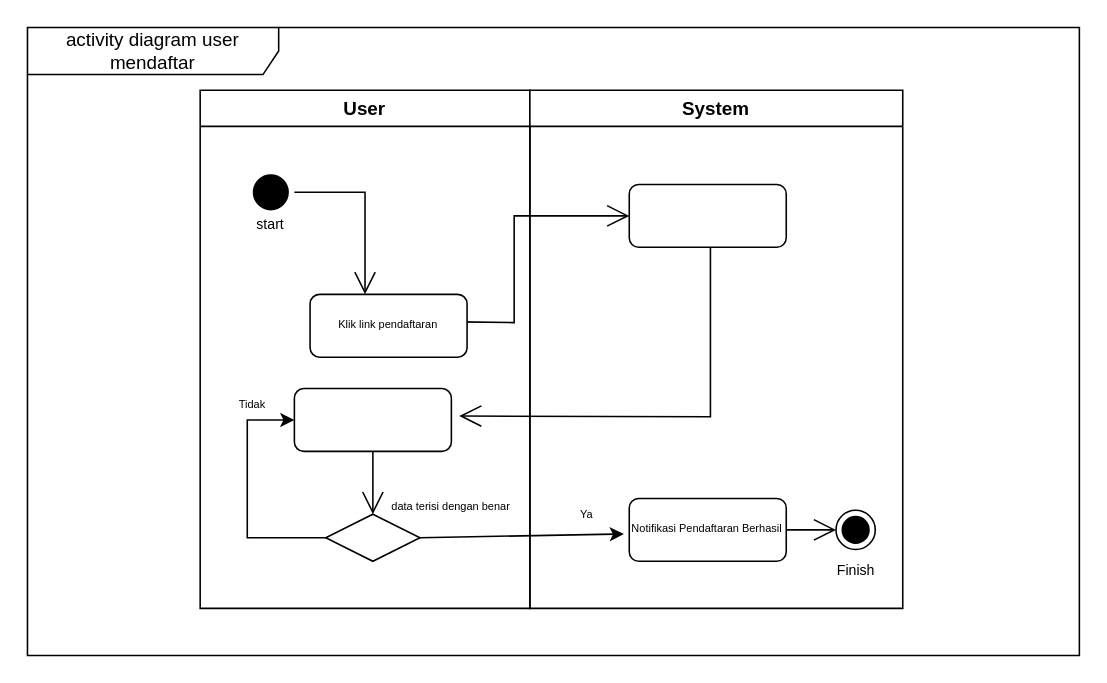
The diagram is 1107 pixels wide and 683 high, and some of its shapes have lost their labels. Here are the shapes that lost their labels. From the top down, the centre of each, then its label:
At (x=707, y=215): "Menampilkan halaman pendaftaran".
At (x=372, y=419): "Input Form Pendaftaran".
